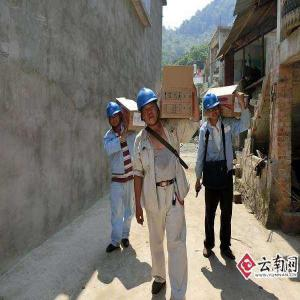blue: (137, 85, 163, 128), (202, 94, 223, 124), (106, 101, 124, 129)
